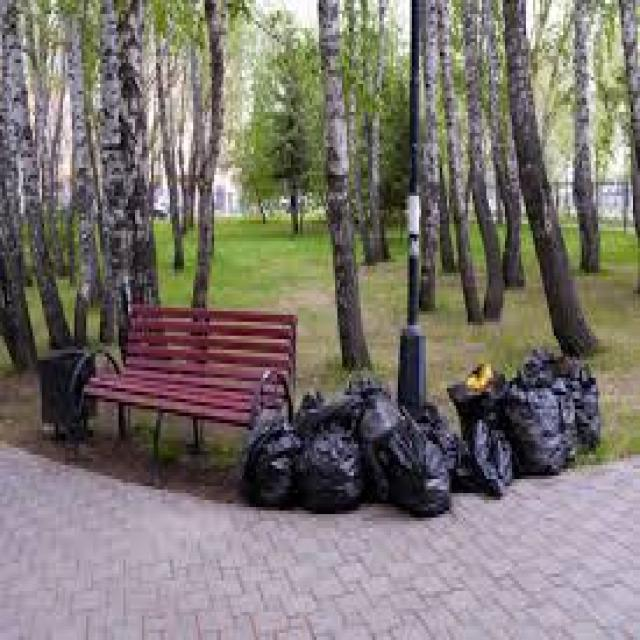Trashbag: (371, 425, 449, 518), (502, 374, 569, 478), (294, 431, 366, 519), (237, 417, 301, 511), (444, 424, 515, 496), (562, 373, 606, 458)
